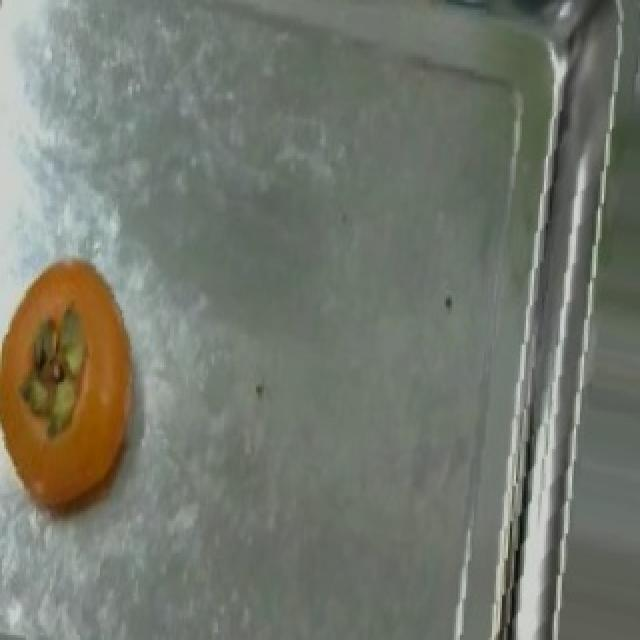Fruit: (0, 241, 156, 538)
